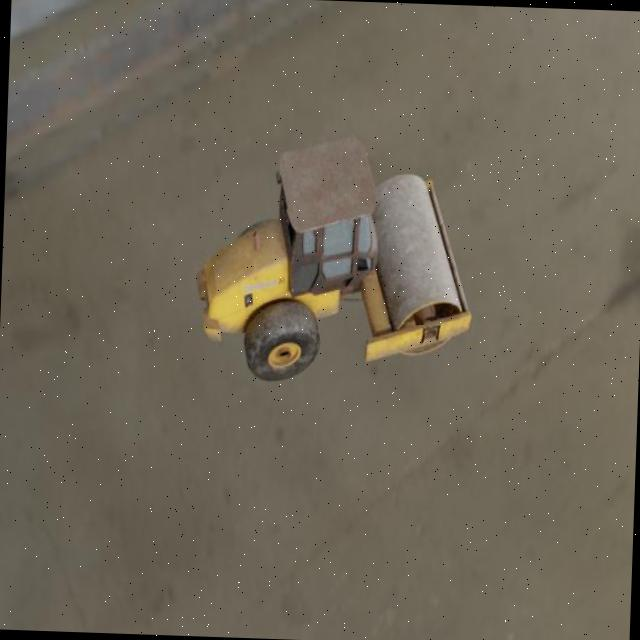Roller: (191, 128, 477, 388)
